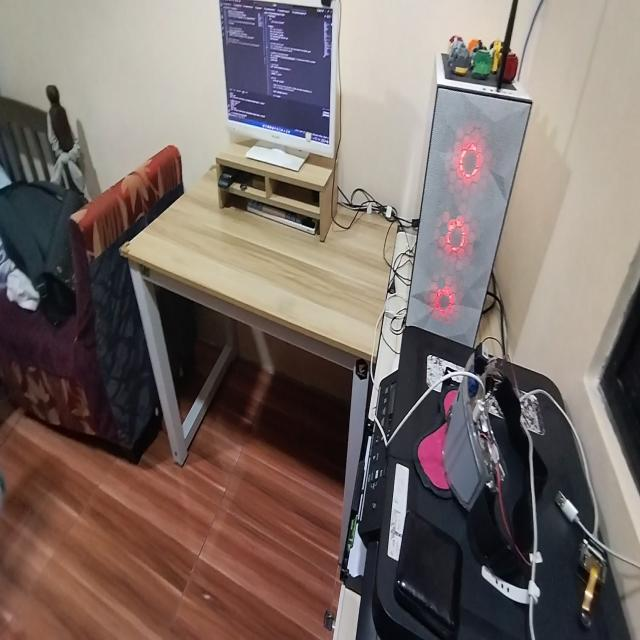table: (130, 153, 382, 488)
